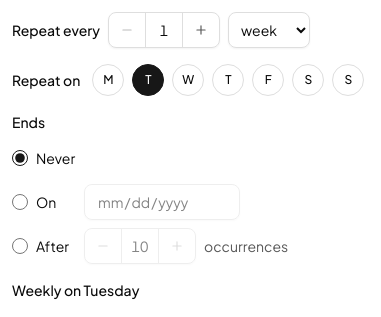
Test case: RecurrenceEditor › changes the interval from the keyboard
Click the number field labelled "Repeat every" at coordinates (164, 30), box [145,13,183,47]
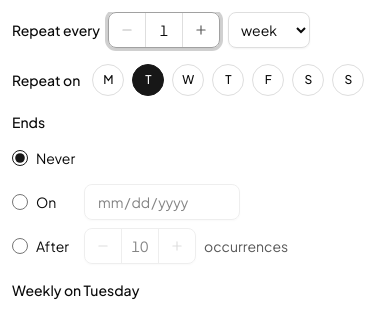
Press Arrowup Arrowup
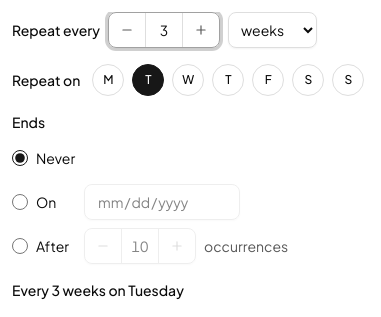
Expected: the text "Every 3 weeks on Tuesday" is shown, [12,281,184,299]
